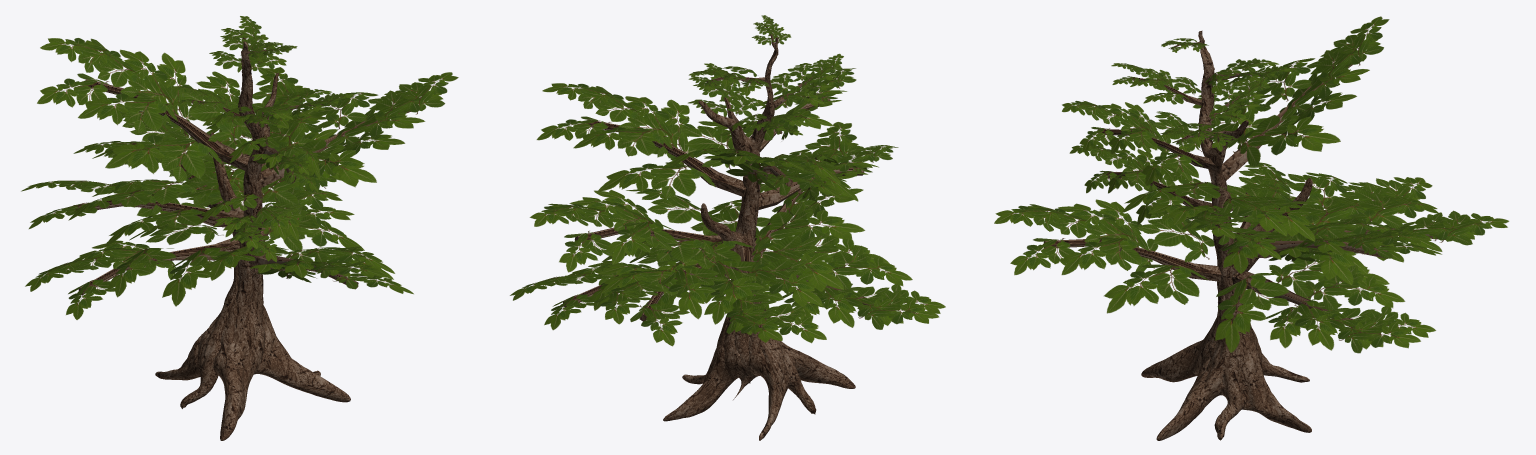
Rendered from tree2-low.glb.
The picture shows the model from 3 angles, left to right: view 1: azimuth 30°, elevation 25°; view 2: azimuth 150°, elevation 25°; view 3: azimuth 270°, elevation 25°; orthographic projection. The views are drawn at different scales.
Parts seen in each view (by area): view 1: pixel_art_large(1).012, Cube, pixel_art_large(1).004, pixel_art_large(1).018, pixel_art_large(1).015, pixel_art_large(1).014, pixel_art_large(1).021, pixel_art_large(1).001, pixel_art_large(1).007, pixel_art_large(1).020, pixel_art_large(1).022, pixel_art_large(1).003 (+4 smaller); view 2: pixel_art_large(1).004, Cube, pixel_art_large(1).015, pixel_art_large(1).001, pixel_art_large(1).021, pixel_art_large(1).018, pixel_art_large(1).014, pixel_art_large(1).012, pixel_art_large(1).020, pixel_art_large(1).007, pixel_art_large(1).002, pixel_art_large(1).022 (+4 smaller); view 3: pixel_art_large(1).014, Cube, pixel_art_large(1).020, pixel_art_large(1).012, pixel_art_large(1).001, pixel_art_large(1).004, pixel_art_large(1).022, pixel_art_large(1).021, pixel_art_large(1).015, pixel_art_large(1).007, pixel_art_large(1).002, pixel_art_large(1).009 (+3 smaller).
Boxes of the visible parts, x1=… form: pixel_art_large(1).012: x1=37, y1=38, x2=250, y2=182; Cube: x1=155, y1=41, x2=350, y2=440; pixel_art_large(1).004: x1=257, y1=72, x2=458, y2=188; pixel_art_large(1).018: x1=25, y1=223, x2=239, y2=319; pixel_art_large(1).015: x1=21, y1=180, x2=243, y2=246; pixel_art_large(1).014: x1=201, y1=244, x2=413, y2=294; pixel_art_large(1).021: x1=176, y1=67, x2=347, y2=229; pixel_art_large(1).001: x1=73, y1=110, x2=244, y2=210; pixel_art_large(1).007: x1=198, y1=193, x2=302, y2=262; pixel_art_large(1).020: x1=186, y1=170, x2=364, y2=252; pixel_art_large(1).022: x1=229, y1=135, x2=320, y2=192; pixel_art_large(1).003: x1=209, y1=16, x2=286, y2=74; pixel_art_large(1).004: x1=536, y1=83, x2=746, y2=198; Cube: x1=663, y1=37, x2=855, y2=440; pixel_art_large(1).015: x1=658, y1=231, x2=843, y2=343; pixel_art_large(1).001: x1=594, y1=238, x2=772, y2=346; pixel_art_large(1).021: x1=530, y1=188, x2=724, y2=293; pixel_art_large(1).018: x1=728, y1=227, x2=945, y2=329; pixel_art_large(1).014: x1=690, y1=122, x2=864, y2=257; pixel_art_large(1).012: x1=670, y1=148, x2=858, y2=201; pixel_art_large(1).020: x1=510, y1=248, x2=728, y2=330; pixel_art_large(1).007: x1=758, y1=145, x2=898, y2=209; pixel_art_large(1).002: x1=770, y1=53, x2=843, y2=107; pixel_art_large(1).022: x1=720, y1=68, x2=856, y2=151; pixel_art_large(1).014: x1=994, y1=199, x2=1221, y2=313; Cube: x1=1141, y1=30, x2=1312, y2=440; pixel_art_large(1).020: x1=1214, y1=255, x2=1435, y2=353; pixel_art_large(1).012: x1=1211, y1=16, x2=1389, y2=181; pixel_art_large(1).001: x1=1263, y1=192, x2=1508, y2=285; pixel_art_large(1).004: x1=1122, y1=182, x2=1315, y2=259; pixel_art_large(1).022: x1=1062, y1=100, x2=1219, y2=185; pixel_art_large(1).021: x1=1218, y1=217, x2=1441, y2=273; pixel_art_large(1).015: x1=1227, y1=172, x2=1432, y2=274; pixel_art_large(1).007: x1=1069, y1=145, x2=1212, y2=224; pixel_art_large(1).002: x1=1111, y1=63, x2=1201, y2=105; pixel_art_large(1).009: x1=1193, y1=76, x2=1270, y2=126.
Size of the model in its own units: 16.7 by 13.6 by 17.83.
135 materials, 135 textured.
